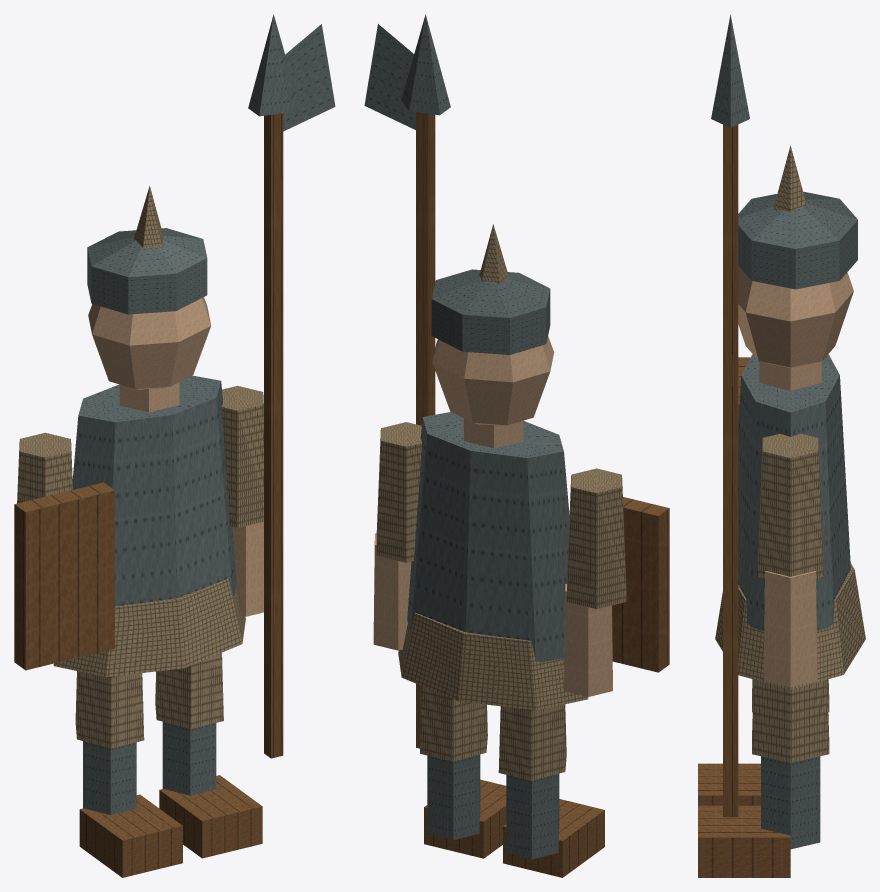
File: unit-HALBERD-lod1.glb
The picture shows the model from 3 angles, left to right: view 1: azimuth 30°, elevation 25°; view 2: azimuth 150°, elevation 25°; view 3: azimuth 270°, elevation 25°; orthographic projection. The views are drawn at different scales.
Size of the model in its own units: 0.225 by 0.565 by 0.098.
Materials: 1 (1 with a texture image).
